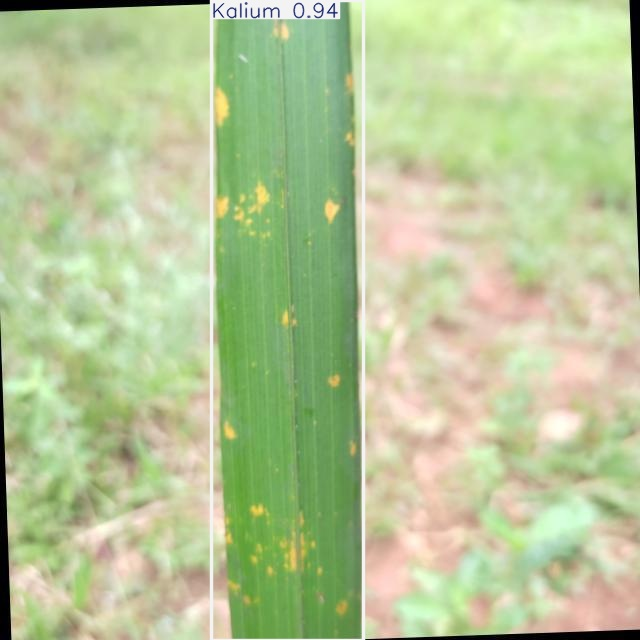Kalium: (212, 0, 363, 640)
